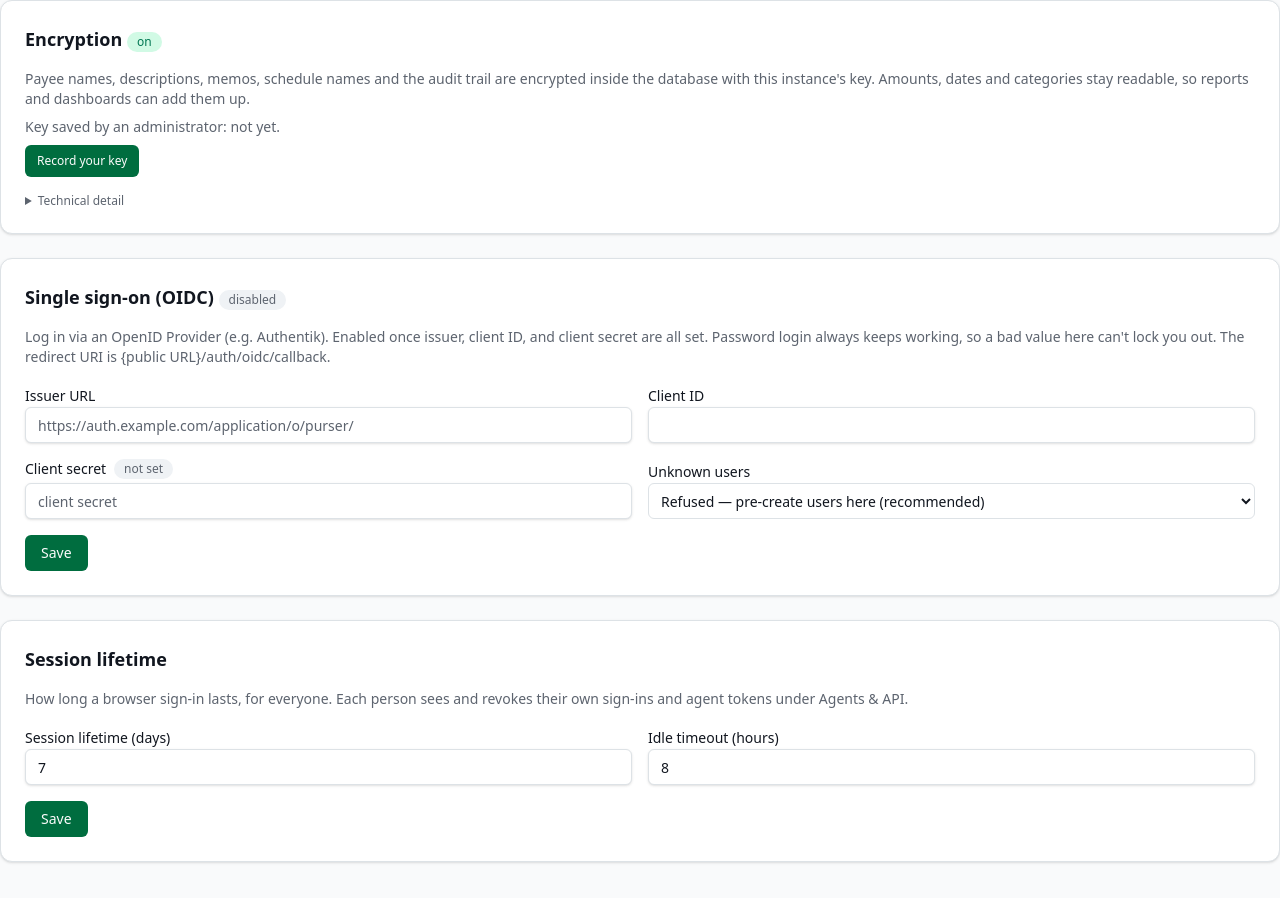
Test case: Settings, Security: record the encryption key after setup (#539) › keeps the key on screen with the reason when the acknowledgement fails
Click the button "Record your key".
click(82, 161)  # box [25,145,139,177]
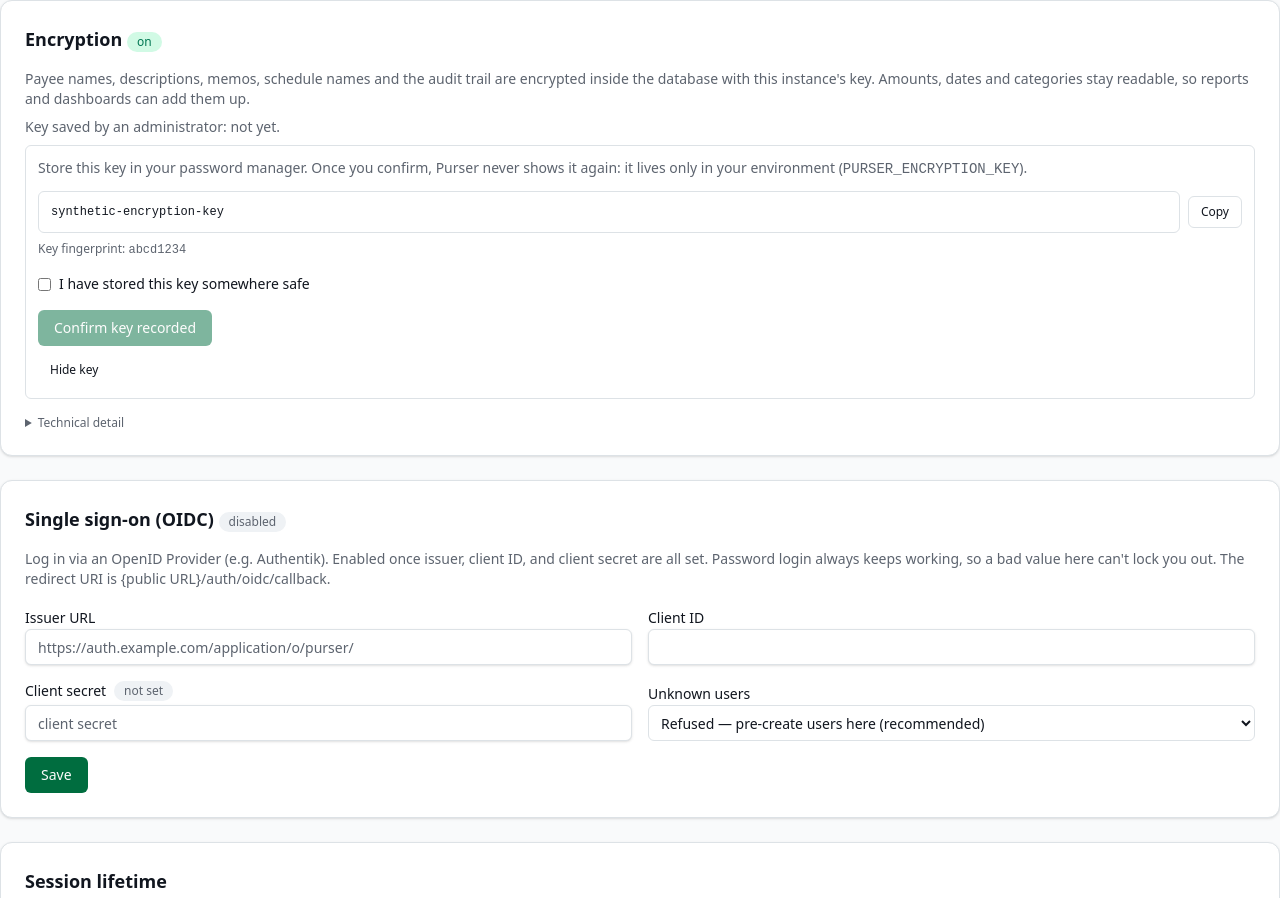
Click the checkbox labelled "I have stored this key somewhere safe".
click(44, 284)  # box [38,278,51,290]
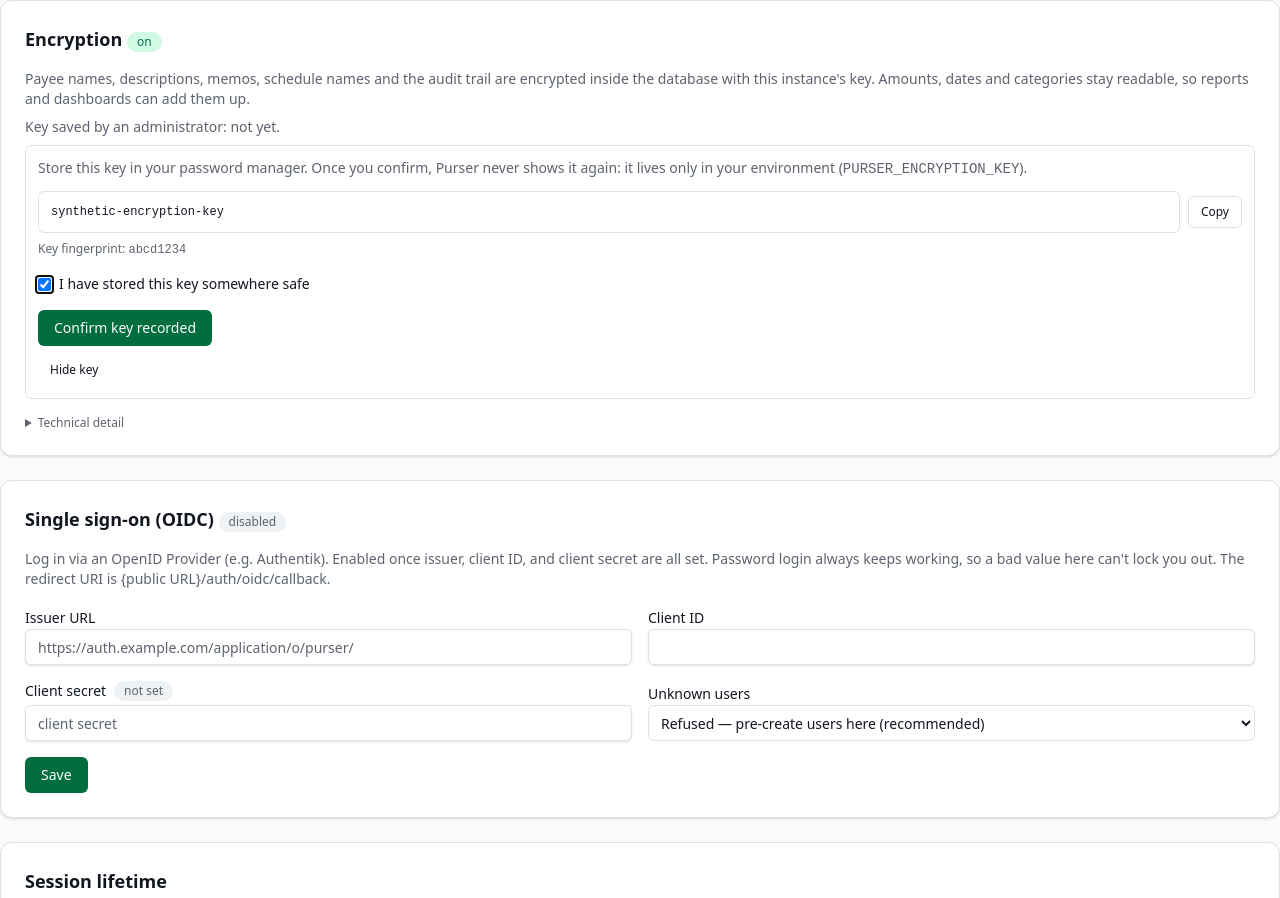
Click the button "Confirm key recorded".
click(125, 328)  # box [38,310,212,346]
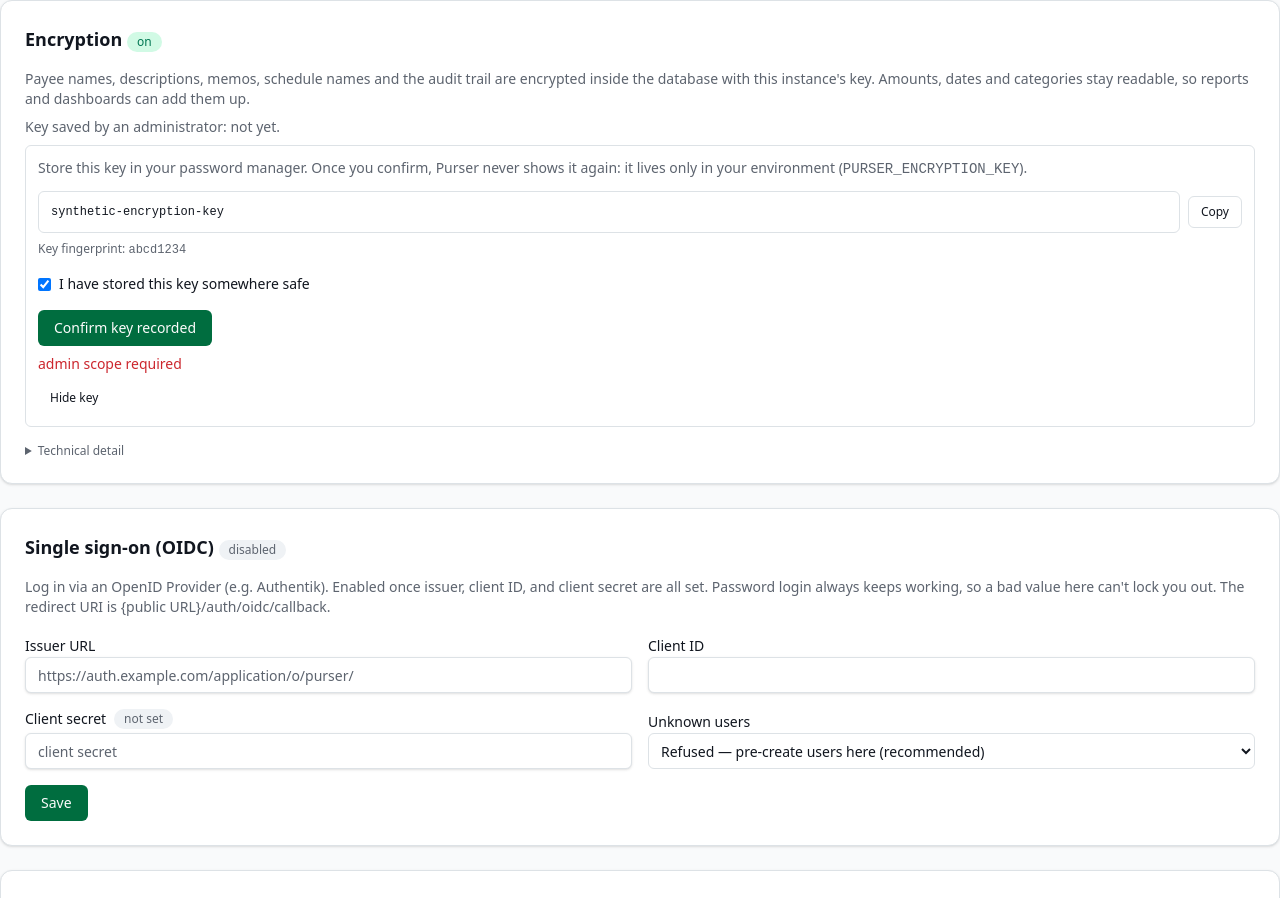
Check: the text "synthetic-encryption-key" is shown, box [38,191,1180,233]
Check: the text "admin scope required" is shown, box [38,354,182,373]
